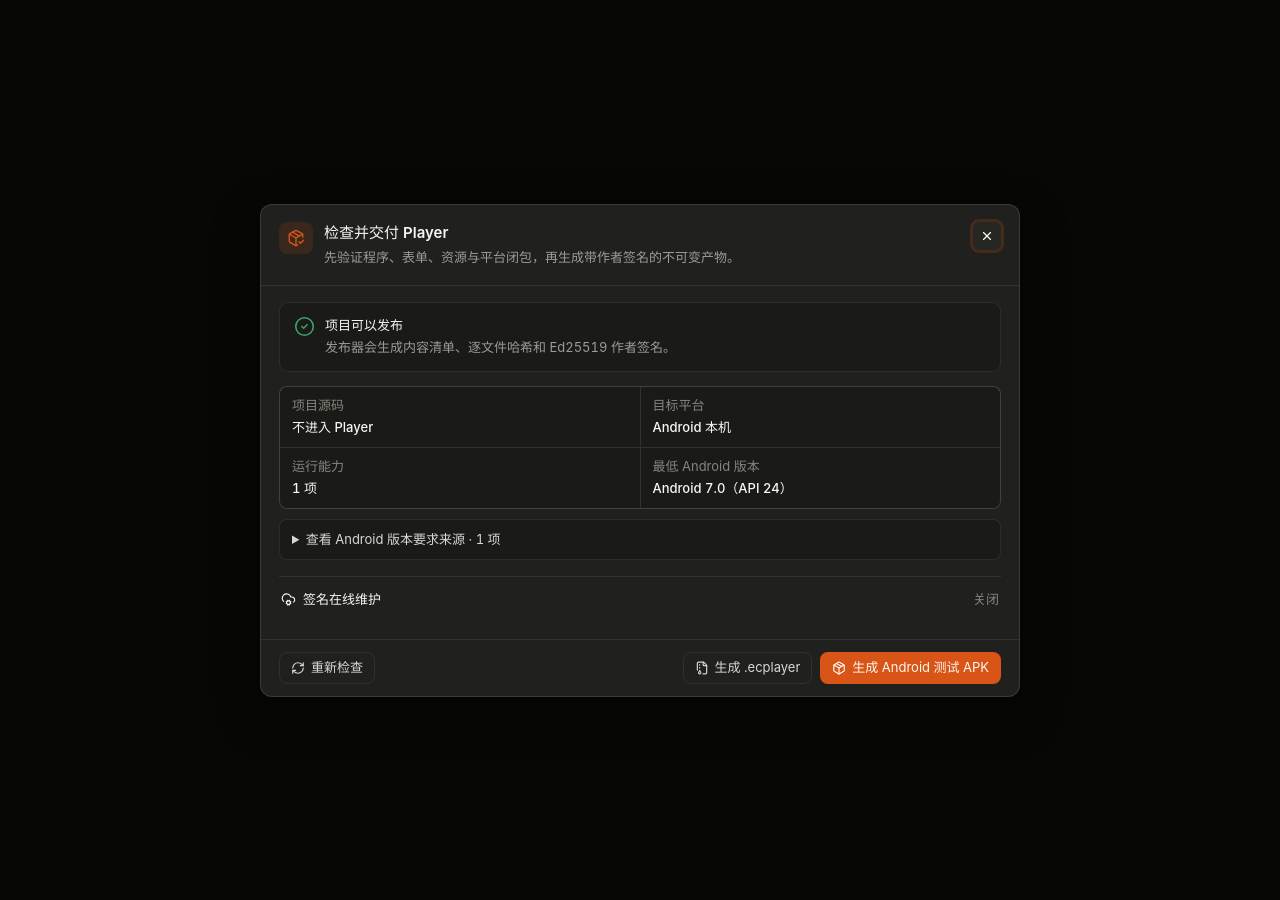
Test: VNextPublishDialog › Android 项目在发布前显示自动推导的最低系统及来源
The width and height of the screenshot is (1280, 900).
Click the button "生成 Android 测试 APK". click: click(911, 668)
box: [820,652,1001,684]
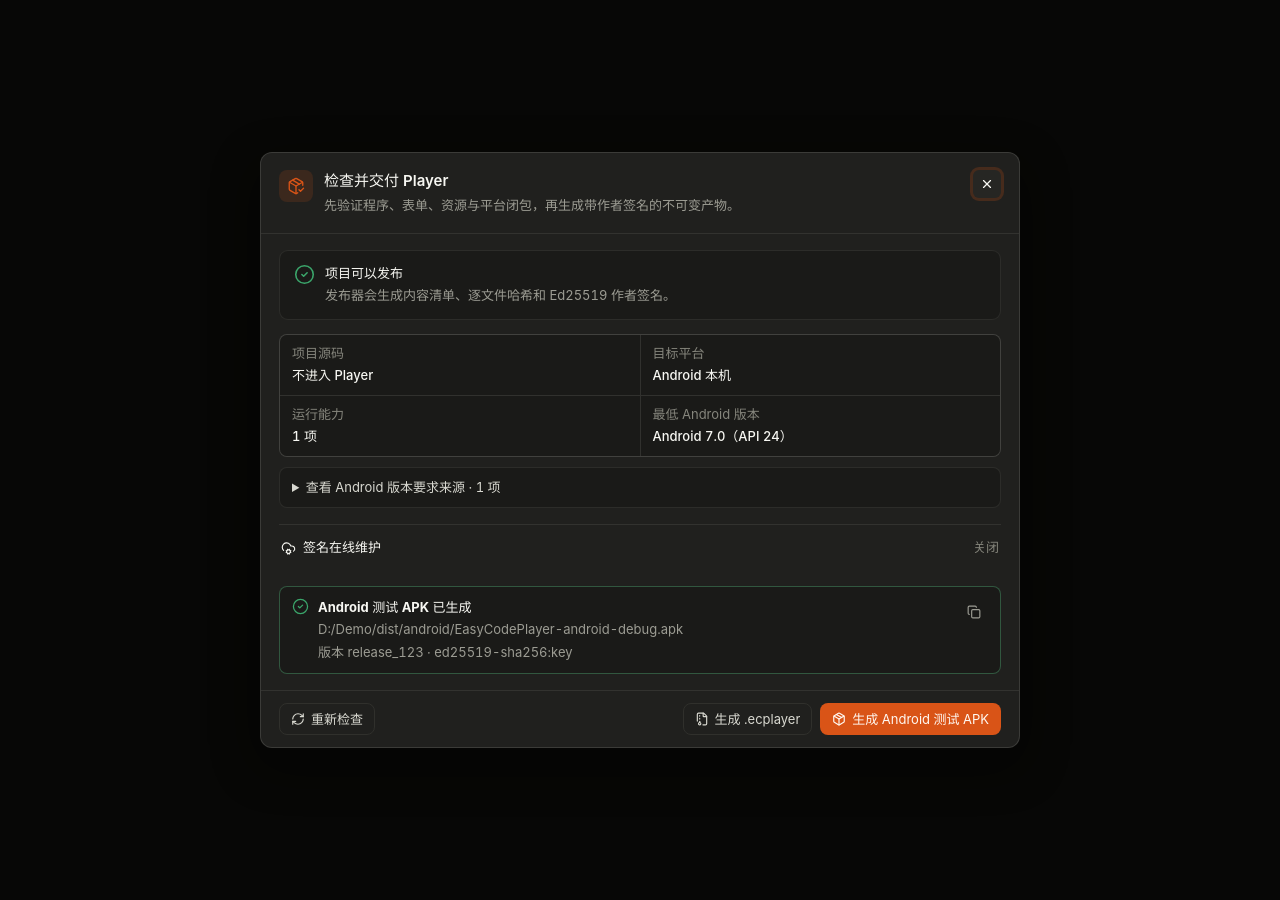
Result: the text "Android 测试 APK 已生成" is shown at [318,599,472,615]
